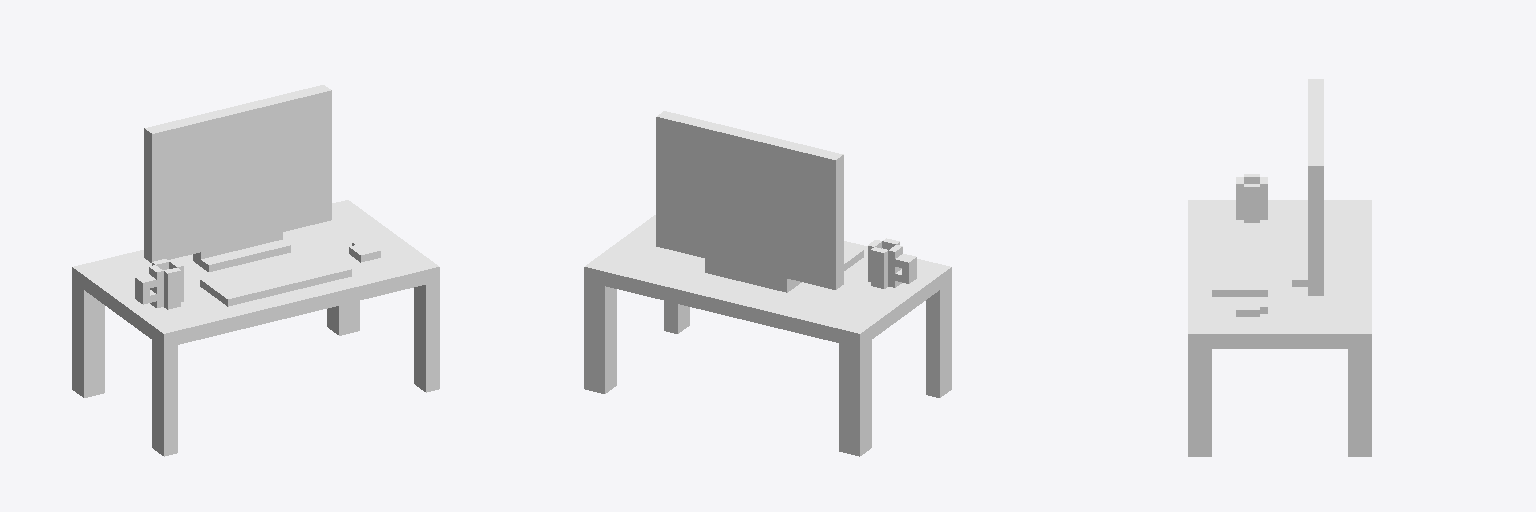
Rendered from Character_room-1-Desk.obj.
The picture shows the model from 3 angles: view 1: azimuth 30°, elevation 25°; view 2: azimuth 150°, elevation 25°; view 3: azimuth 270°, elevation 25°; orthographic projection.
Parts seen in each view (by area): view 1: Desk; view 2: Desk; view 3: Desk.
Boxes of the visible parts, box(x1,y1,x2,y2) form: Desk: box(72, 85, 439, 456); Desk: box(584, 111, 951, 456); Desk: box(1188, 79, 1371, 456).
Bounding box in the file's own units: 4 × 3.7 × 2.3.